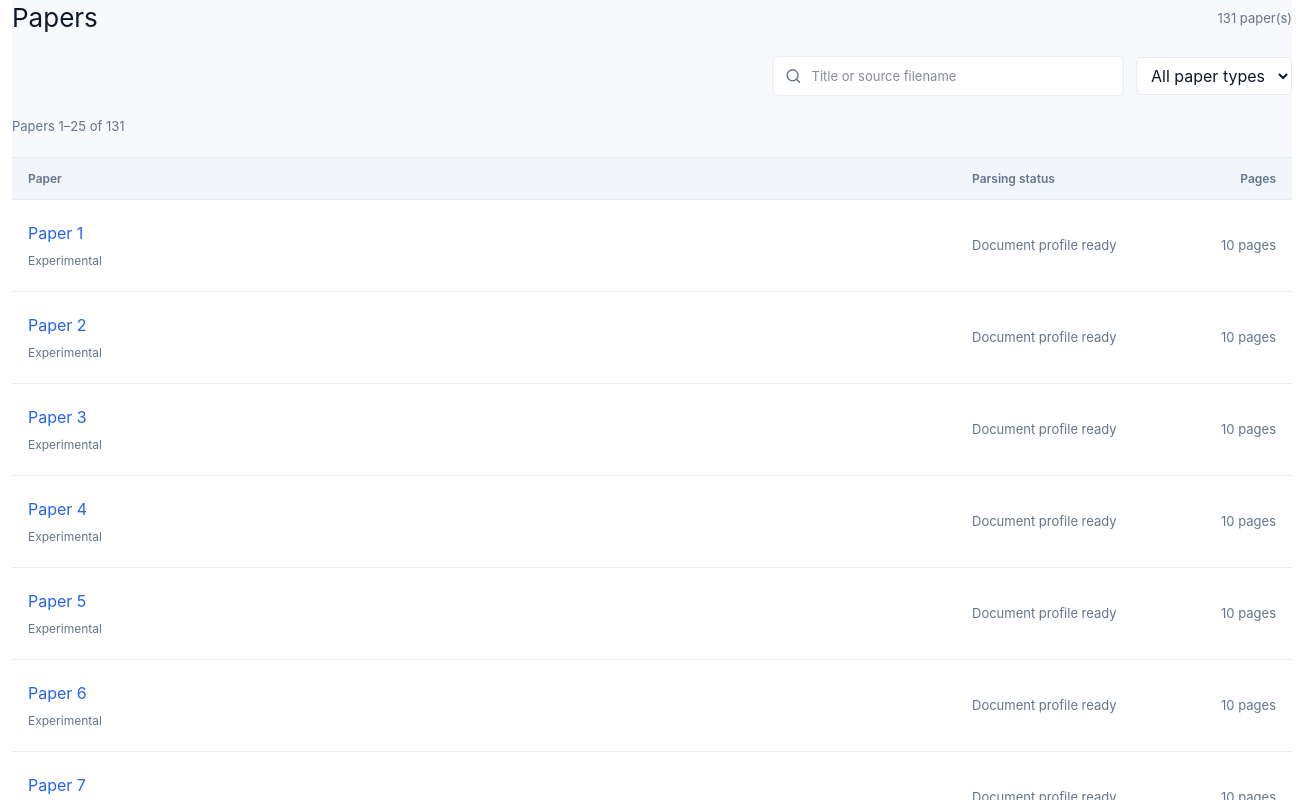
it: collections/[id]/documents/+page.svelte › keeps all active filters when changing paper pages
The width and height of the screenshot is (1304, 800).
Select "Review" in the dropdown named "Paper type" at (1214,76), box [1136,57,1292,95]
(page scrolled)
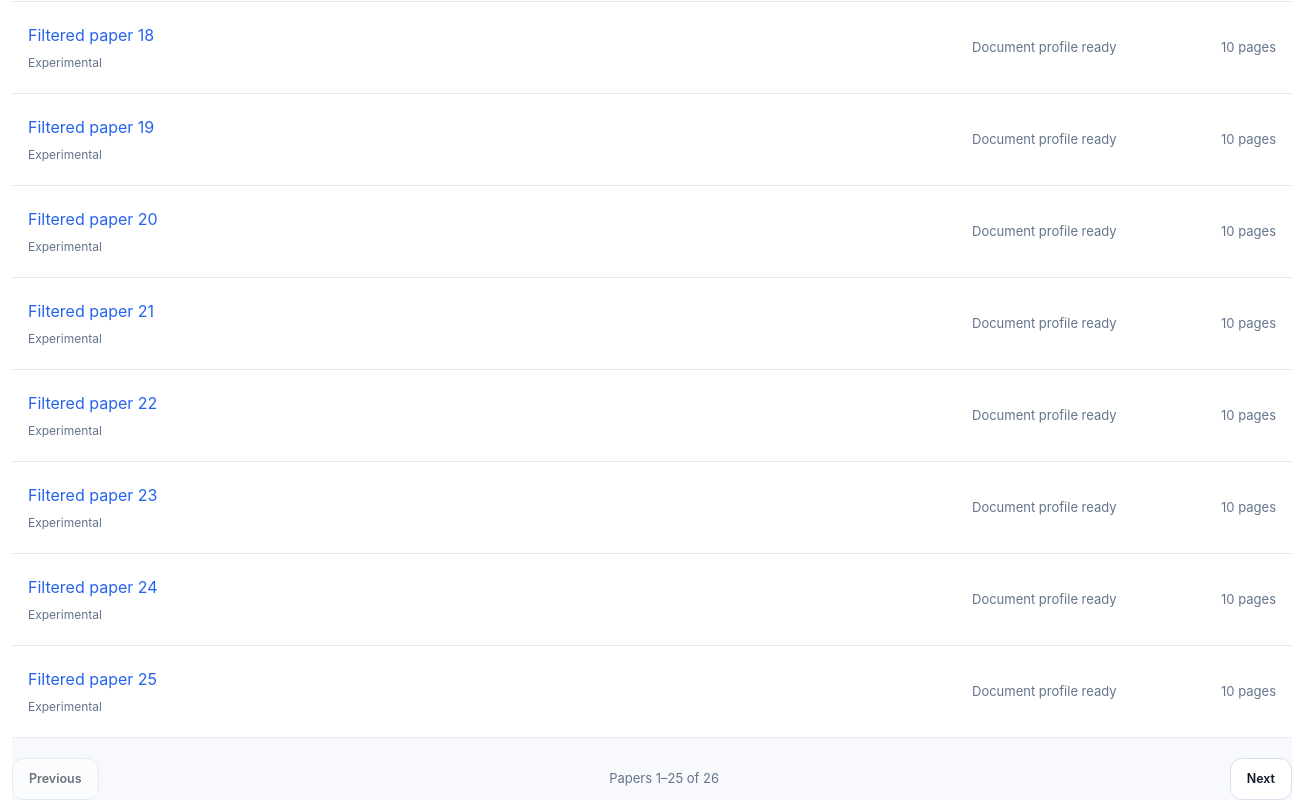
Click the button "Next" at (1261,779), box [1230,758,1292,799]
(page scrolled)
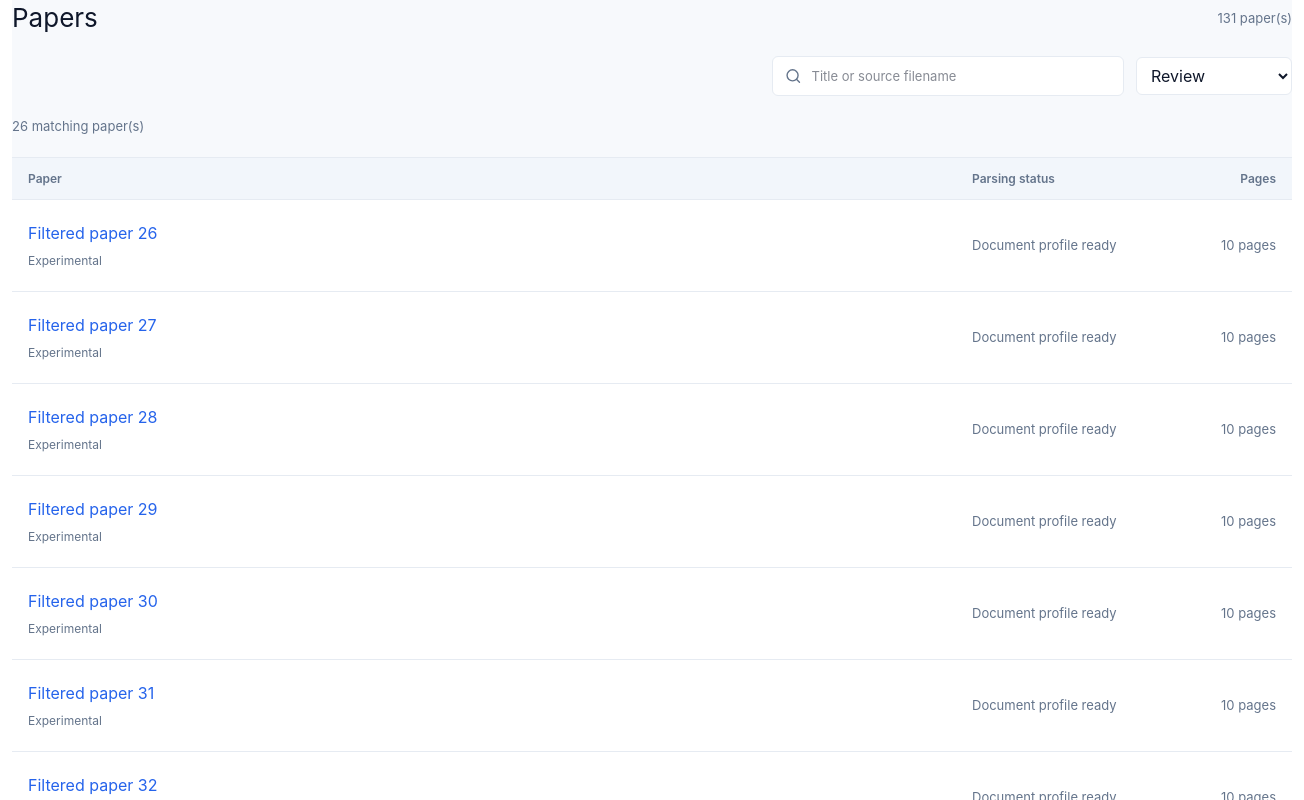
Now the heading "Filtered paper 26" is shown, box [28,223,158,243]
